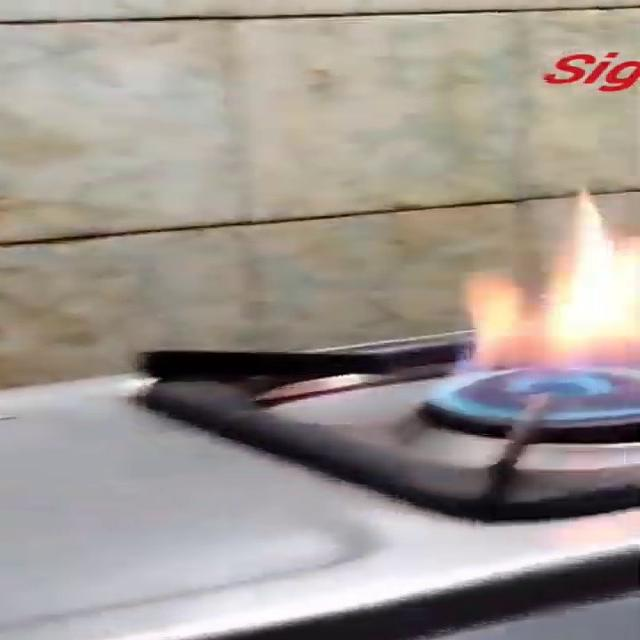fire: (353, 174, 640, 460)
